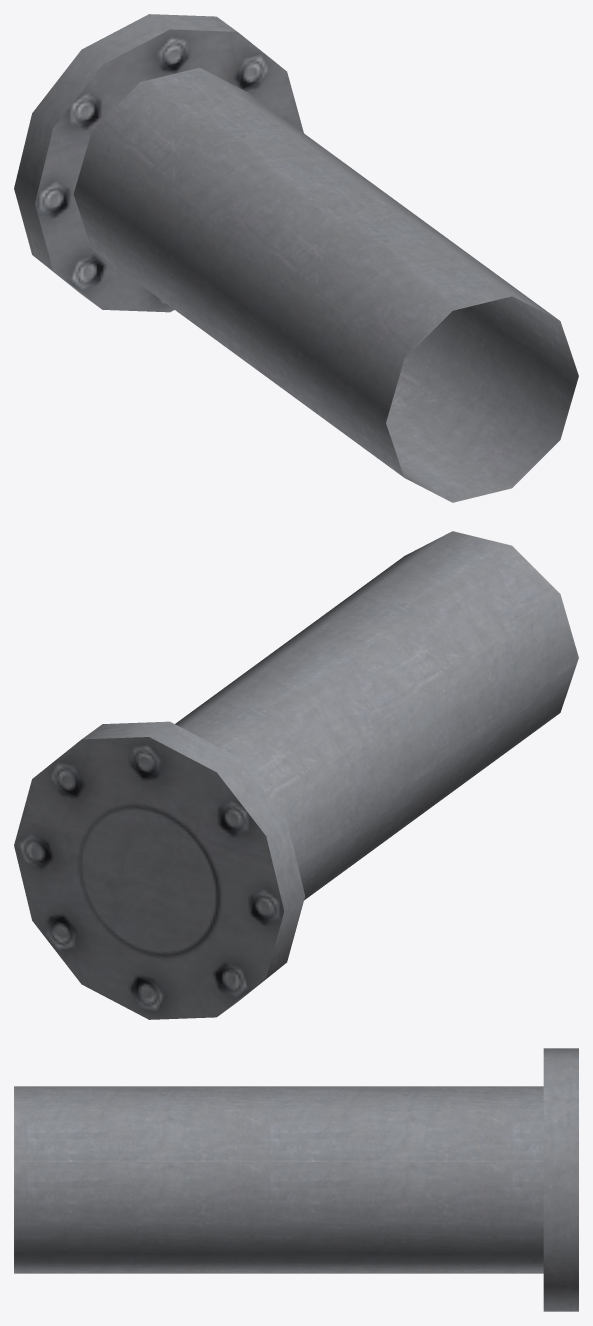
Rendered from p_small_1_cap.FBX.
The picture shows the model from 3 angles, top to bottom: view 1: azimuth 30°, elevation 25°; view 2: azimuth 150°, elevation 25°; view 3: azimuth 270°, elevation 25°; orthographic projection. The views are drawn at different scales.
Visible parts, largest first — view 1: Cylinder033; view 2: Cylinder033; view 3: Cylinder033.
Part boxes in pixels (x1=…): Cylinder033: x1=14, y1=14, x2=578, y2=502; Cylinder033: x1=14, y1=531, x2=578, y2=1019; Cylinder033: x1=14, y1=1048, x2=578, y2=1311.
Bounding box in the file's own units: 29.97 × 29.97 × 64.
Materials: 1 (1 with a texture image).
